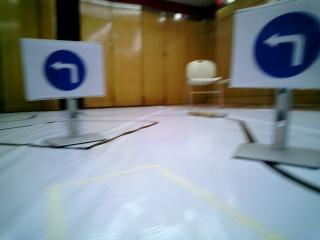left: (231, 15, 320, 91), (22, 38, 105, 99)
